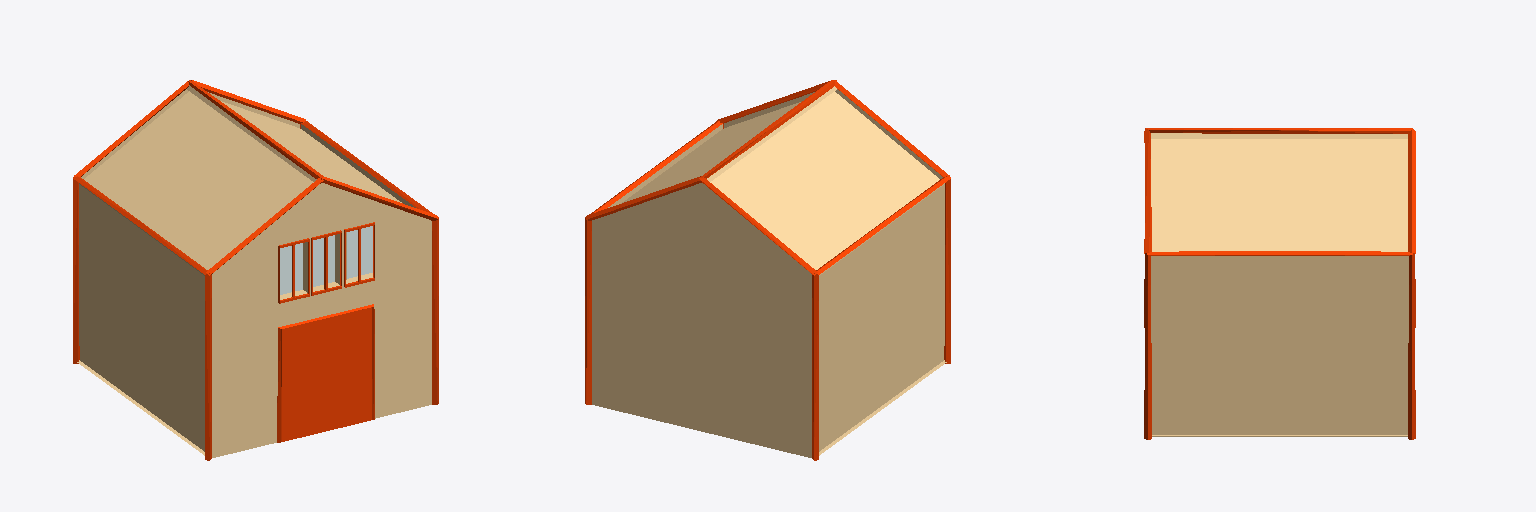
The model's file is building_4.obj.
The picture shows the model from 3 angles: view 1: azimuth 30°, elevation 25°; view 2: azimuth 150°, elevation 25°; view 3: azimuth 270°, elevation 25°; orthographic projection.
Visible parts, largest first — view 1: Cube.014_pinkkkk.001, Cube.014_nerenk.001, Cube.014_m_cam; view 2: Cube.014_pinkkkk.001, Cube.014_nerenk.001; view 3: Cube.014_pinkkkk.001, Cube.014_nerenk.001.
Boxes of the visible parts, x1,y1,x2,y2 form: Cube.014_pinkkkk.001: [77, 85, 431, 457]; Cube.014_nerenk.001: [73, 80, 438, 460]; Cube.014_m_cam: [280, 226, 372, 294]; Cube.014_pinkkkk.001: [592, 86, 946, 457]; Cube.014_nerenk.001: [585, 80, 950, 460]; Cube.014_pinkkkk.001: [1151, 133, 1408, 436]; Cube.014_nerenk.001: [1144, 128, 1415, 439].
Size of the model in its own units: 163 by 170 by 164.